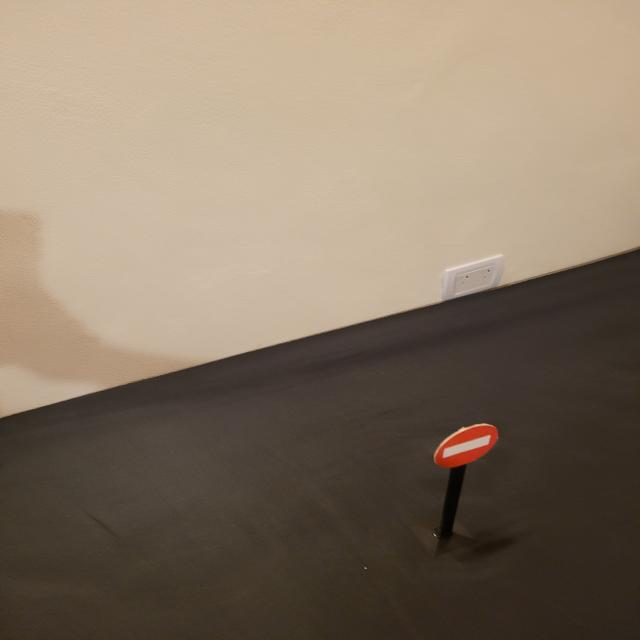no_entry: (433, 423, 500, 469)
